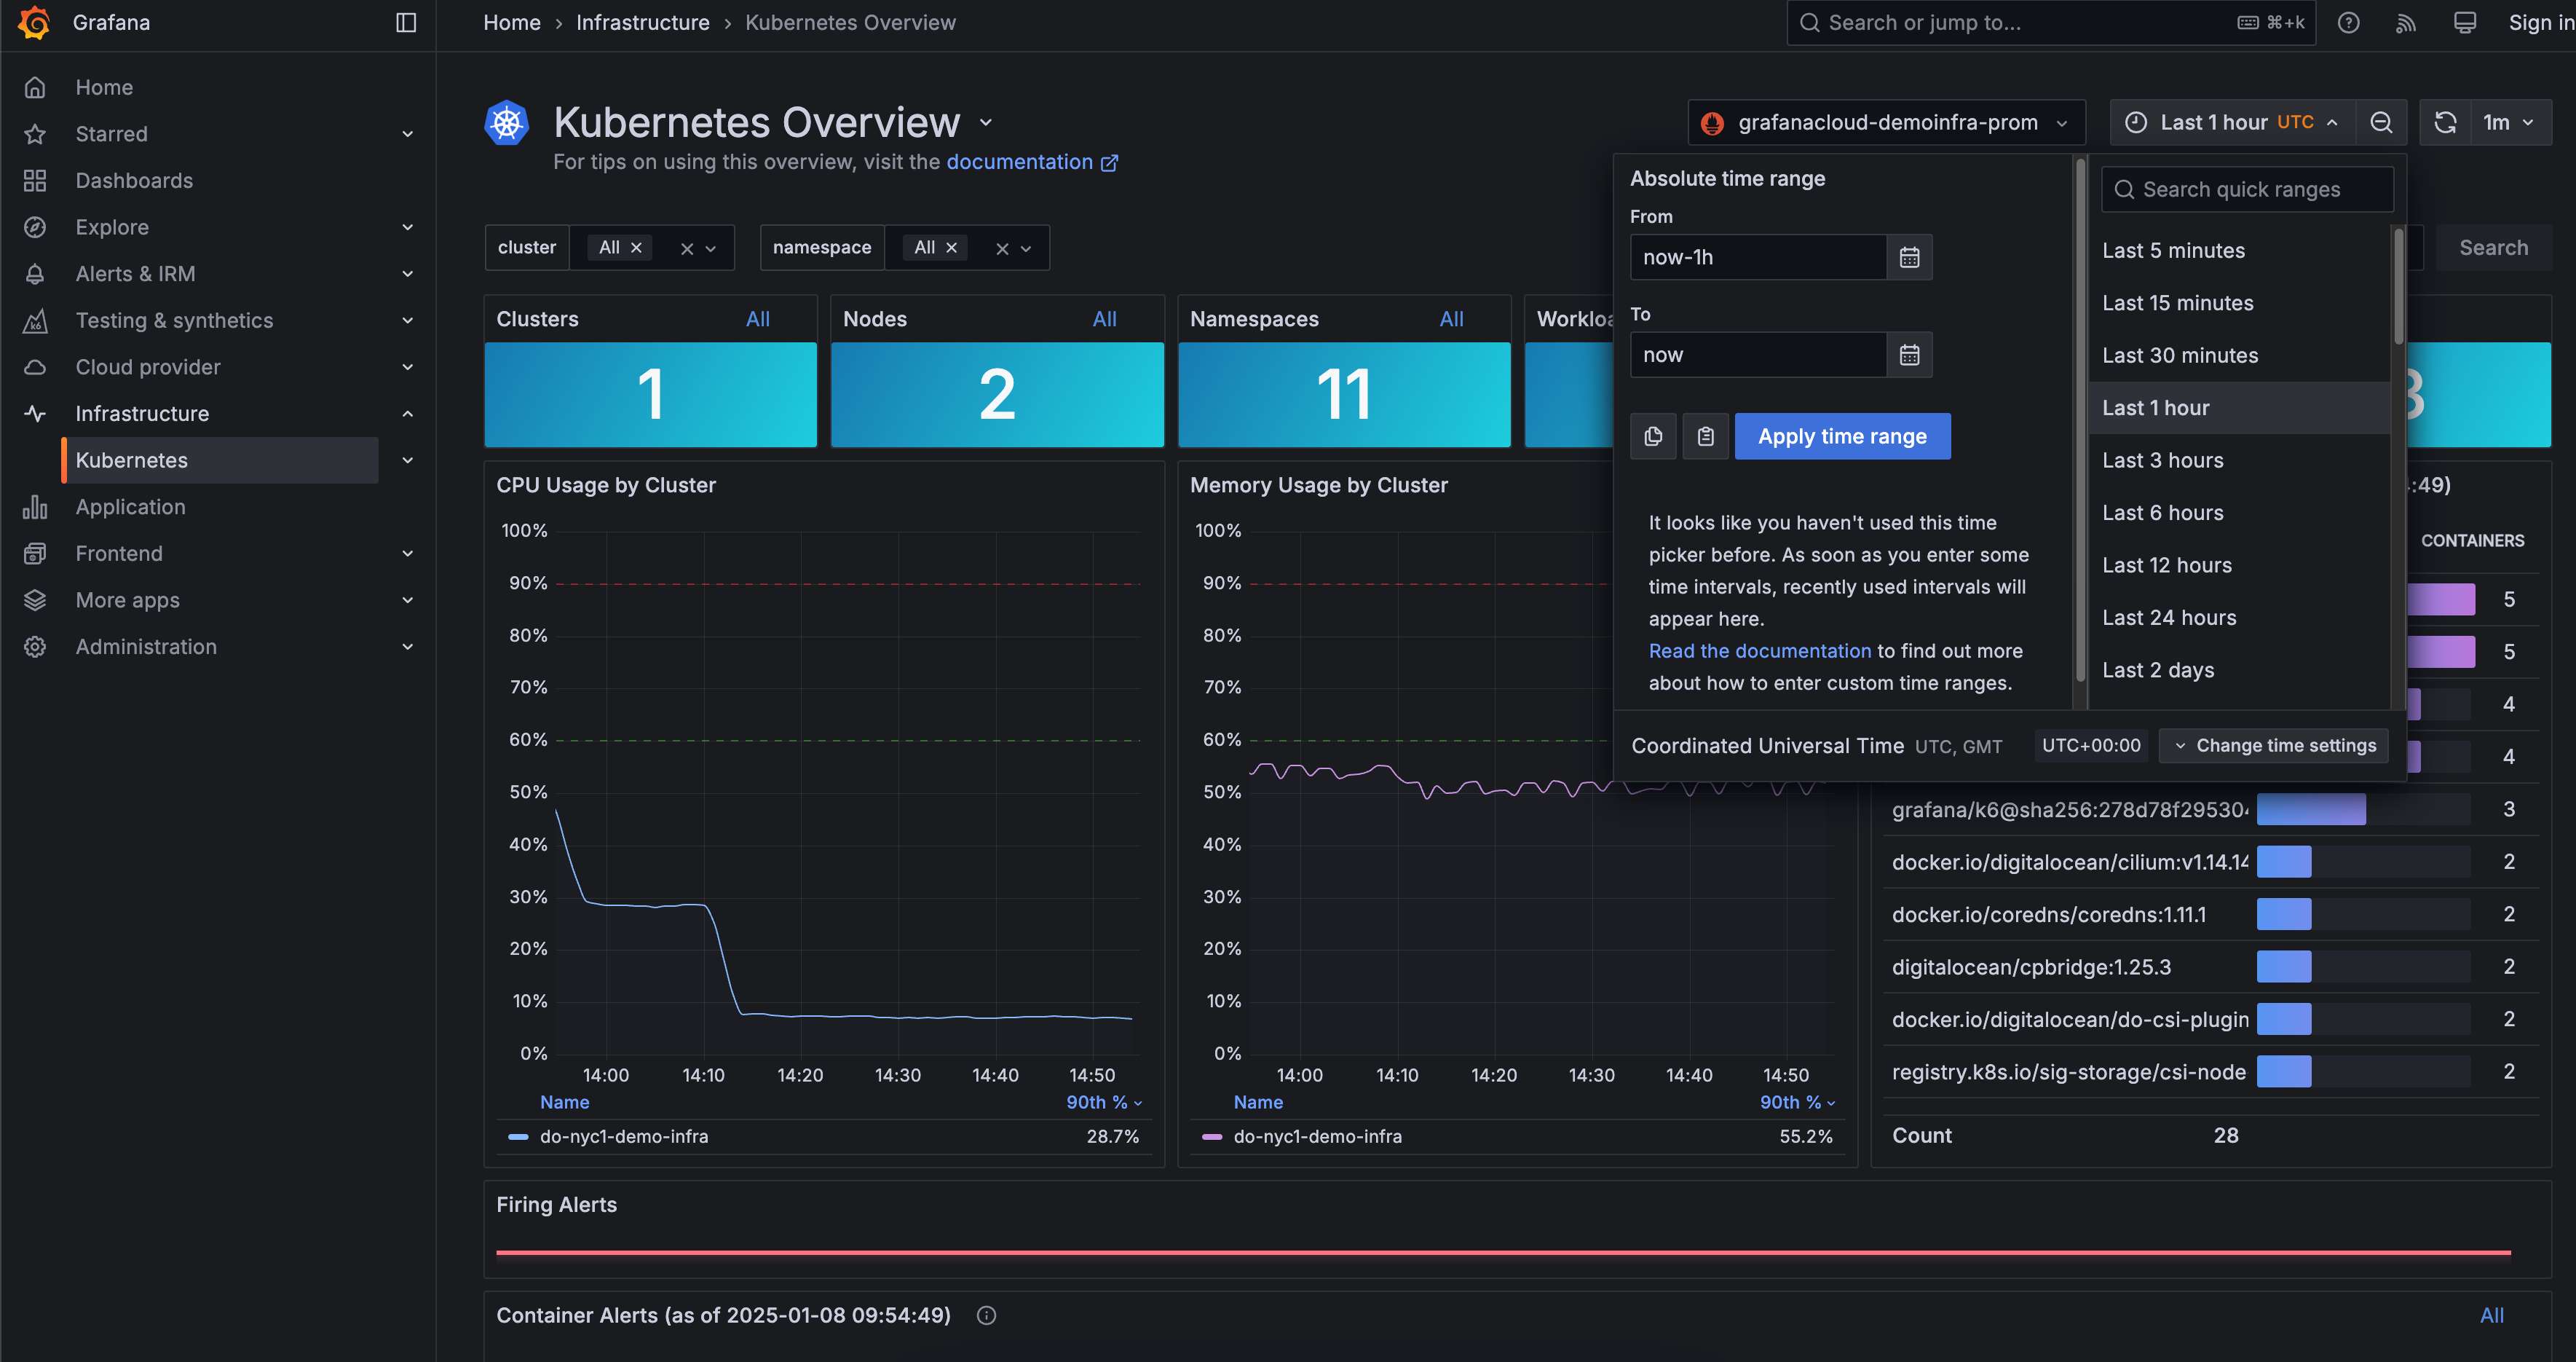button: (1686, 98, 2089, 147), (2108, 98, 2360, 147), (2160, 728, 2391, 765), (2434, 222, 2555, 273), (2470, 98, 2555, 145), (901, 232, 970, 264), (587, 232, 655, 263)
input: (1790, 0, 2319, 47), (1627, 329, 1891, 380)
label: (2100, 165, 2396, 214), (1629, 232, 1889, 283), (1734, 412, 1953, 461), (2144, 180, 2342, 202), (1830, 15, 2025, 34), (1632, 209, 1675, 226), (1627, 306, 1656, 324)
